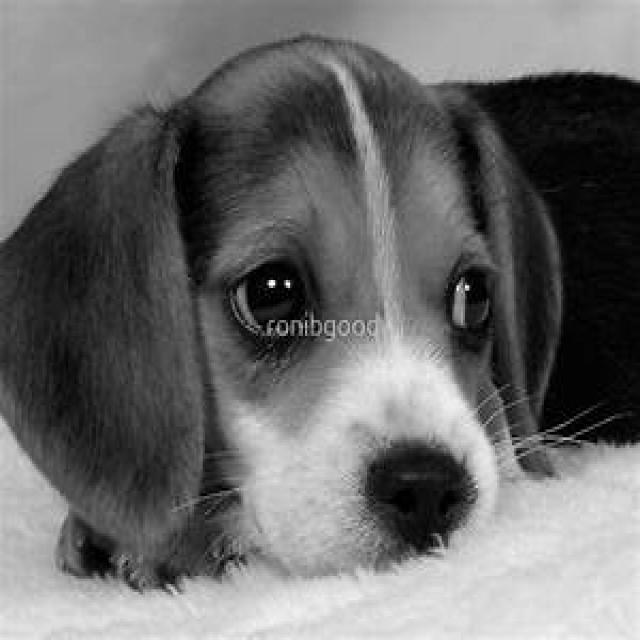dog: (0, 36, 640, 584)
